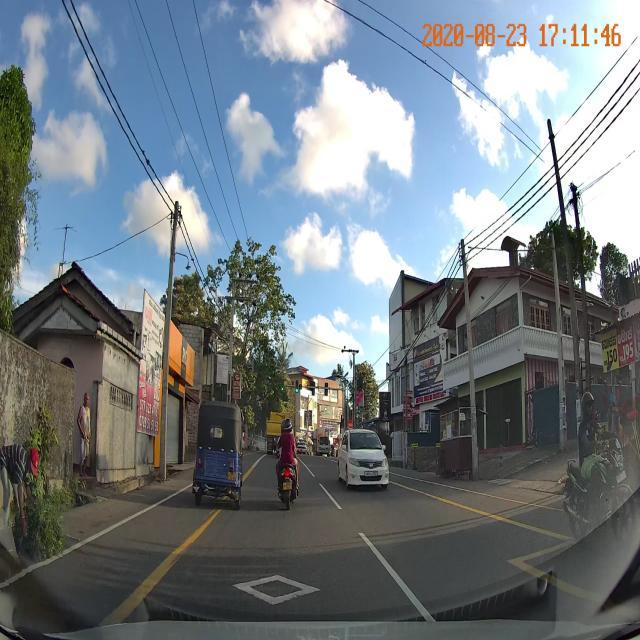diamond: (106, 544, 438, 611)
